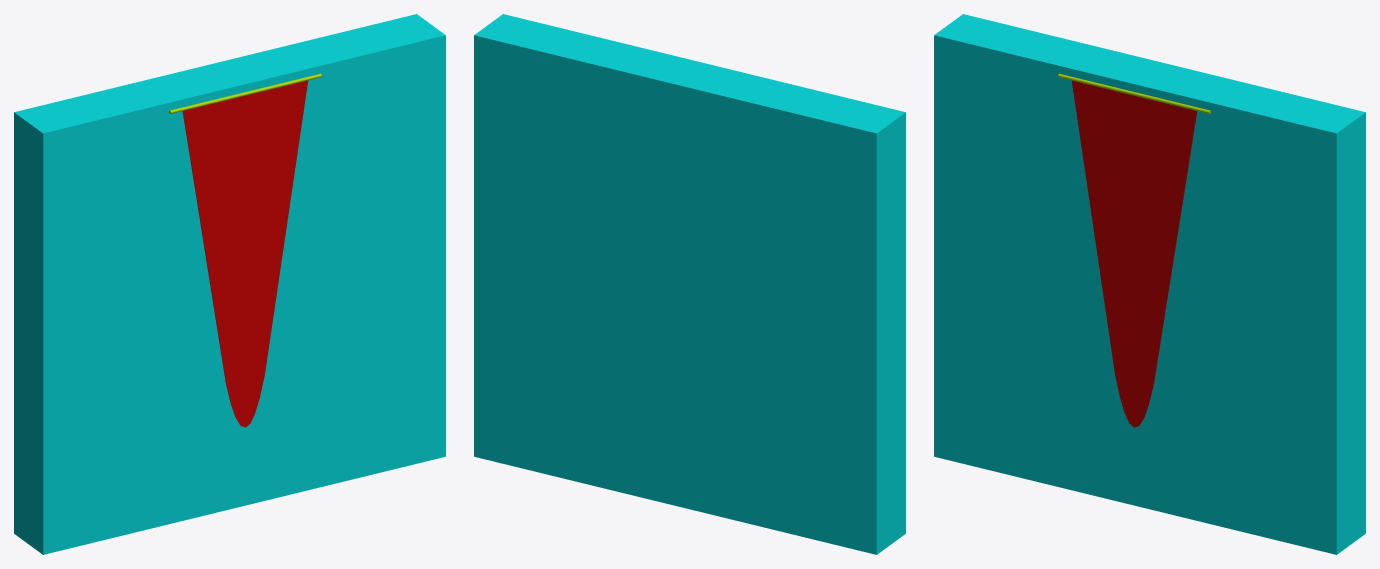
Rendered from mur drapeau.FBX.
The picture shows the model from 3 angles, left to right: view 1: azimuth 30°, elevation 25°; view 2: azimuth 150°, elevation 25°; view 3: azimuth 330°, elevation 25°; orthographic projection.
Visible parts, largest first — view 1: Box001; view 2: Box001; view 3: Box001.
Part boxes in pixels (x1,y1,x2,y2): Box001: (14, 14, 445, 554); Box001: (474, 14, 905, 554); Box001: (934, 14, 1365, 554).
Bounding box in the file's own units: 256 × 256 × 33.97.
